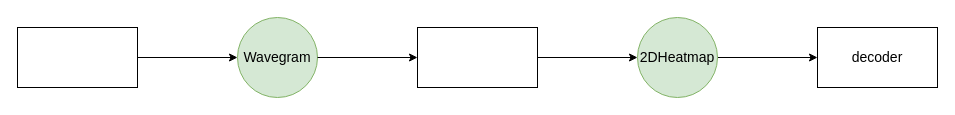
The diagram is 955 pixels wide and 115 high, and some of its shapes have lost their labels. Each missing label, with the box of its shape:
encoder: (416, 26, 538, 88)
feature_extractor: (16, 26, 138, 88)
